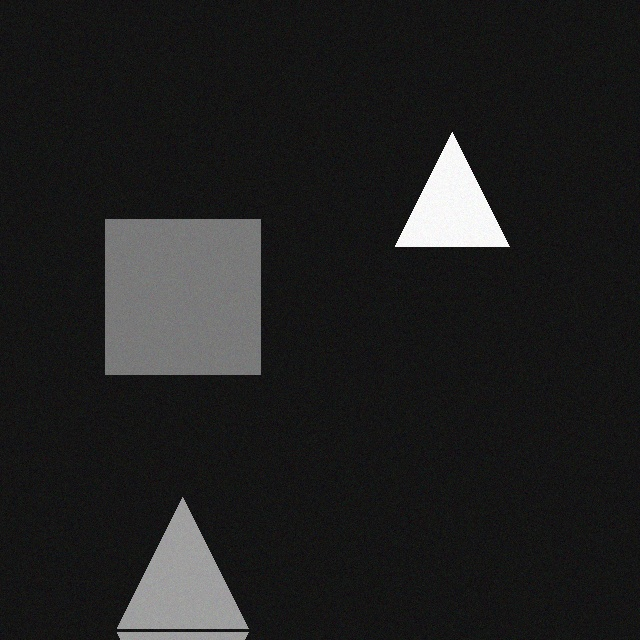square: (117, 228, 272, 383)
triangle: (129, 506, 260, 637), (407, 141, 521, 255)
